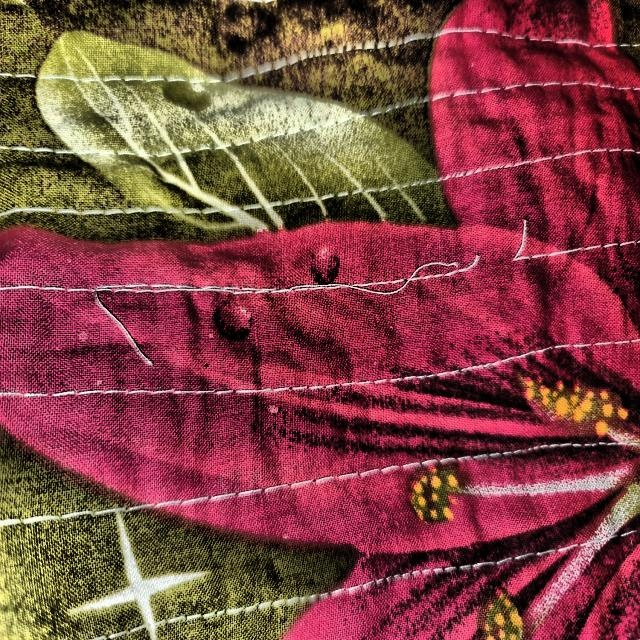Stitch: (431, 193, 551, 307)
